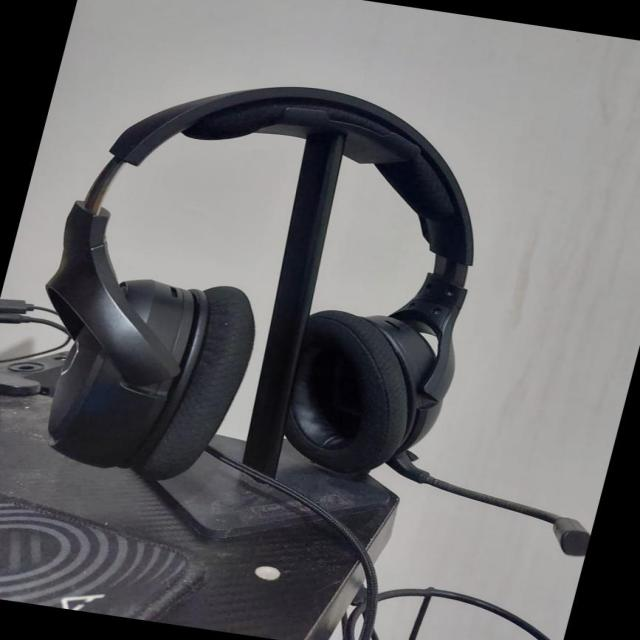earphone: (61, 53, 571, 564)
